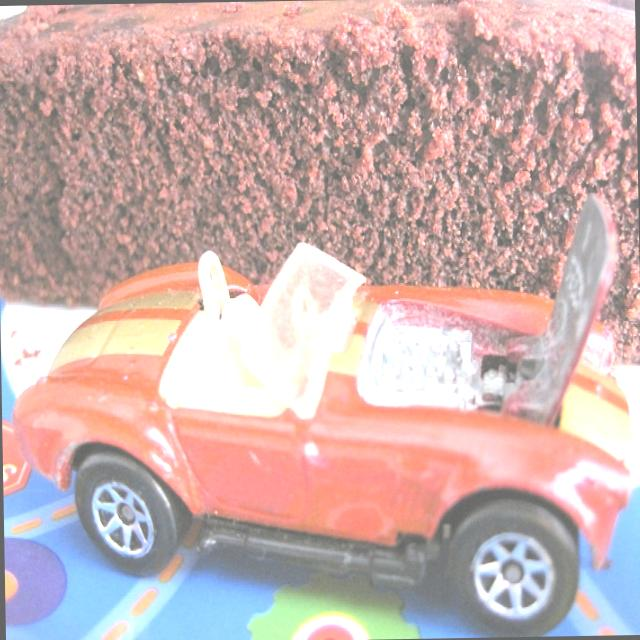Vehicle: (7, 194, 638, 630)
